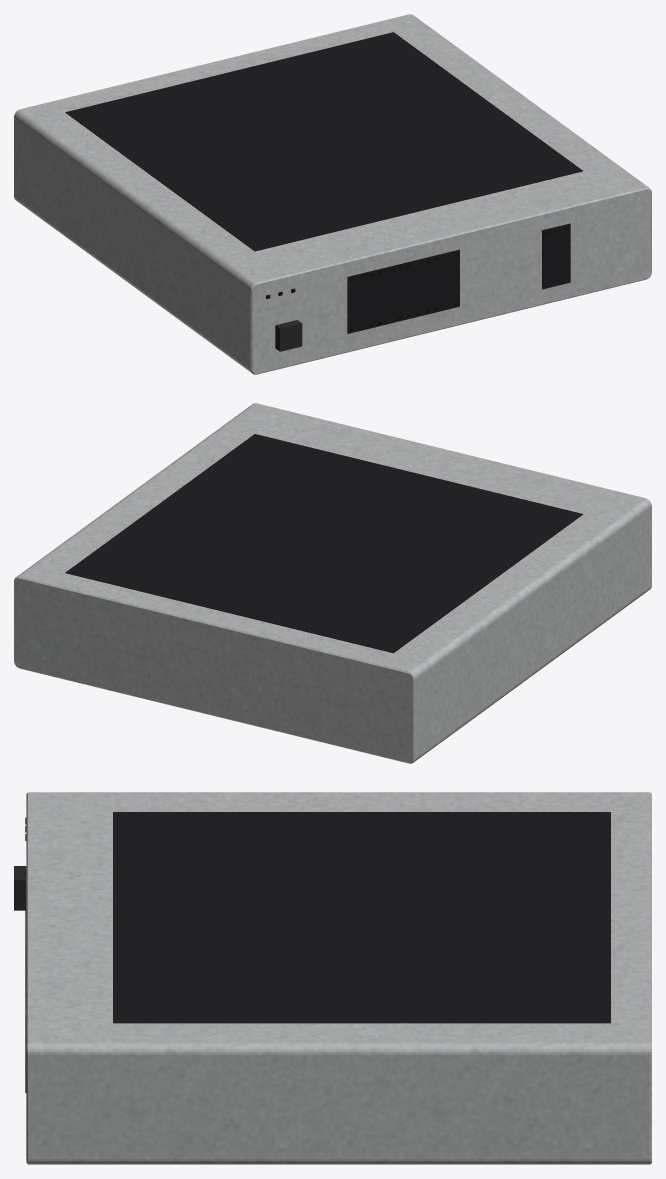
Rendered from FPR1010-NGFW-K9.far.glb.
The picture shows the model from 3 angles, top to bottom: view 1: azimuth 30°, elevation 25°; view 2: azimuth 150°, elevation 25°; view 3: azimuth 270°, elevation 25°; orthographic projection. The views are drawn at different scales.
Visible parts, largest first — view 1: Shell_far; view 2: Shell_far; view 3: Shell_far.
Part boxes in pixels (x1=…): Shell_far: x1=14, y1=14, x2=651, y2=374; Shell_far: x1=14, y1=403, x2=651, y2=763; Shell_far: x1=14, y1=792, x2=651, y2=1164.
Bounding box in the file's own units: 0.1994 × 0.0464 × 0.209.
Materials: 3 (2 with a texture image).
